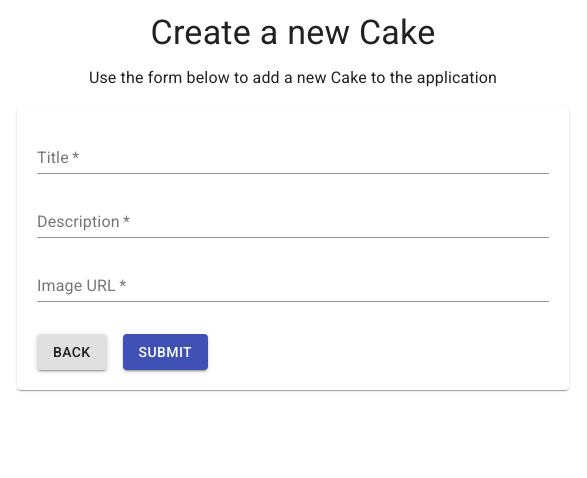
Test: fields with errors will show message
The width and height of the screenshot is (587, 478).
submit form
Click the button "Submit" at coordinates (165, 352), box left=123, top=334, right=208, bottom=370
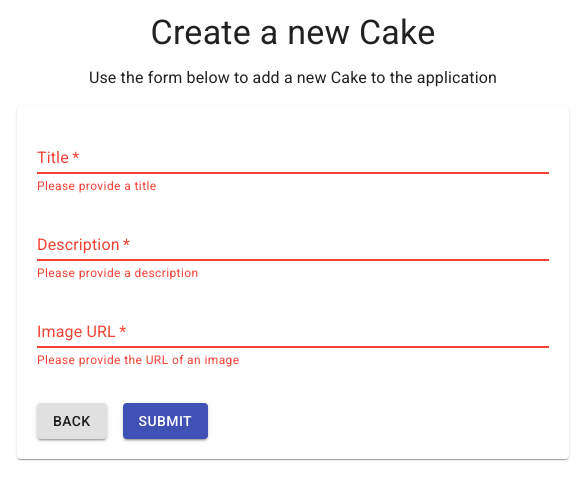
Now the text "Please provide a title" is shown, box left=37, top=179, right=157, bottom=193
Now the text "Please provide a description" is shown, box left=37, top=266, right=198, bottom=280
Now the text "Please provide the URL of an image" is shown, box left=37, top=353, right=240, bottom=367
